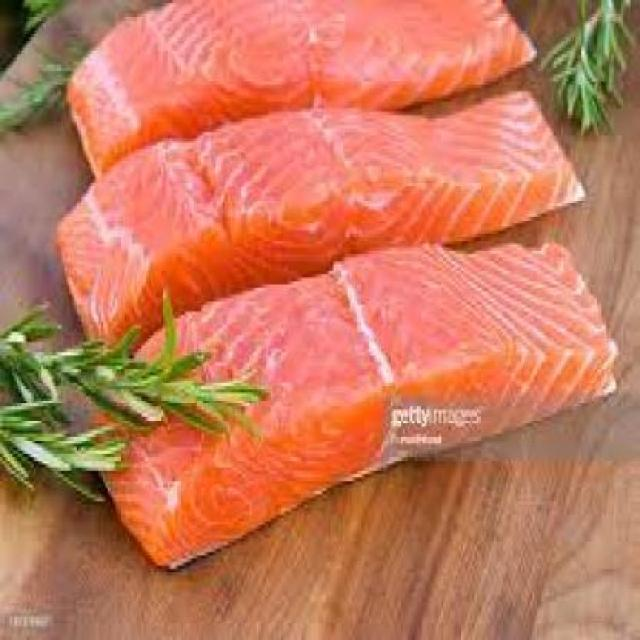salmon: (91, 237, 623, 562), (47, 112, 596, 356), (63, 3, 540, 182)
